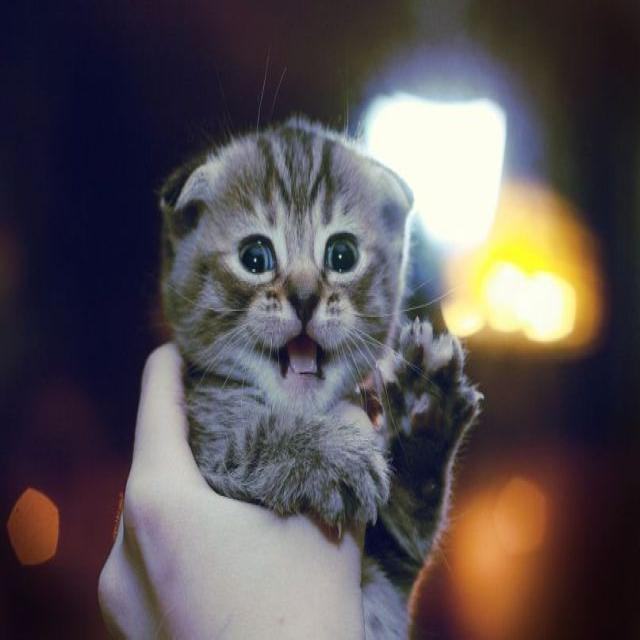cat: (143, 119, 501, 547)
